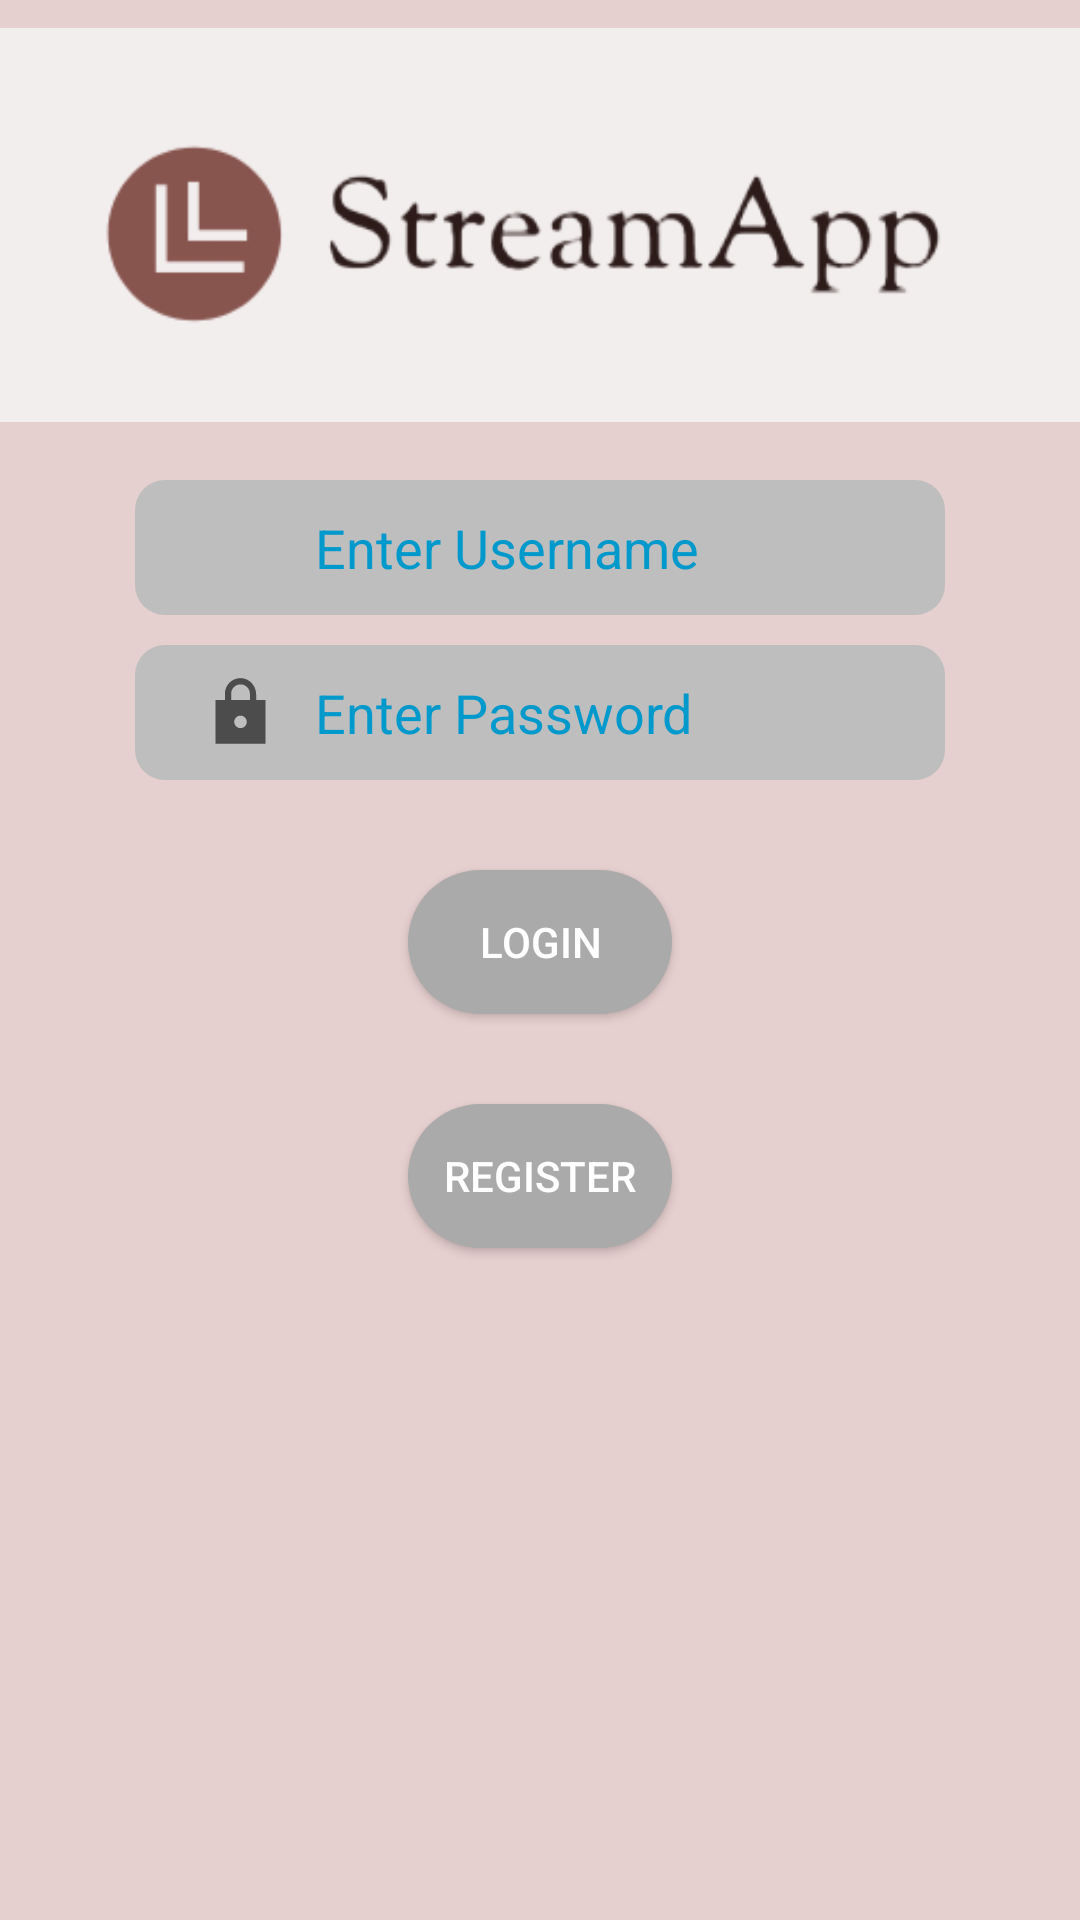

Named icons in this screenshot (1080px×1920px) and their bounding boxes, [left=x1, top=y1, right=x2, bottom=y2]:
lock: [left=215, top=678, right=266, bottom=744]
